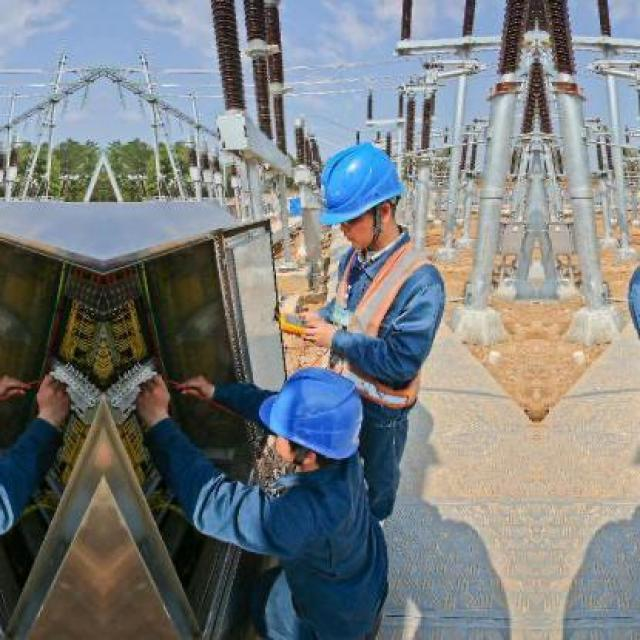Reflective-Jacket: (318, 239, 450, 416)
Safety-Helmet: (256, 363, 367, 461), (304, 134, 413, 231)
